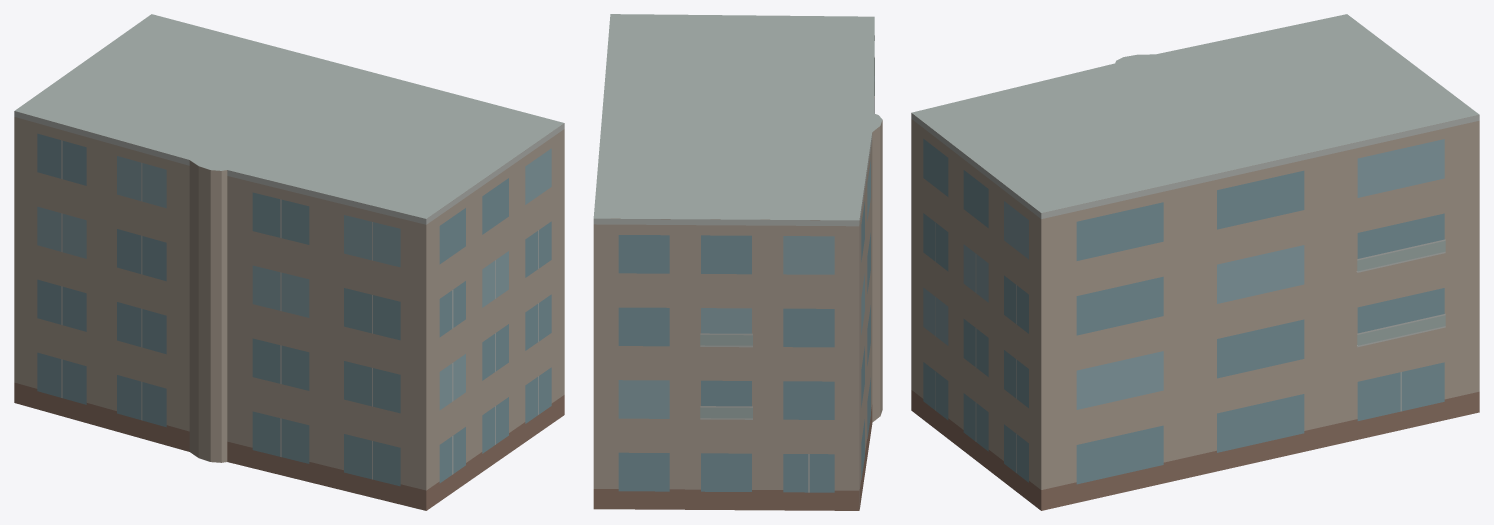
Rendered from survey-upis-32733331.glb.
3 renders of one model, left to right at view 1: azimuth 30°, elevation 25°; view 2: azimuth 150°, elevation 25°; view 3: azimuth 270°, elevation 25°, orthographic. The views are drawn at different scales.
Visible parts, largest first — view 1: survey-upis-32733331.tmp; view 2: survey-upis-32733331.tmp; view 3: survey-upis-32733331.tmp.
Part boxes in pixels (box(x1,y1,x2,y2)): survey-upis-32733331.tmp: box(14, 14, 564, 510); survey-upis-32733331.tmp: box(593, 14, 882, 510); survey-upis-32733331.tmp: box(911, 14, 1479, 510).
Size of the model in its own units: 17.37 by 12.1 by 20.94.
